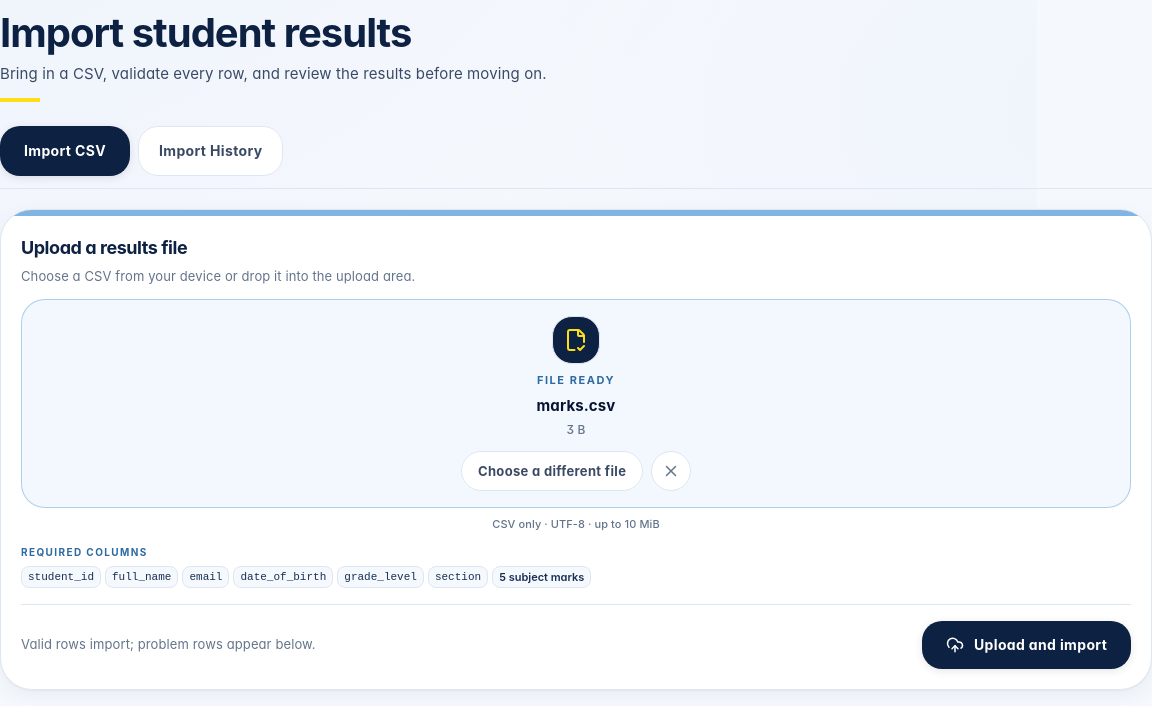
ImportPage › uploads a CSV and renders the real summary and row problems with physical lines
Earlier steps of the test are not shown.
Click the button "Upload and import". click: (1026, 645)
box: [922,621,1131,669]
(page scrolled)
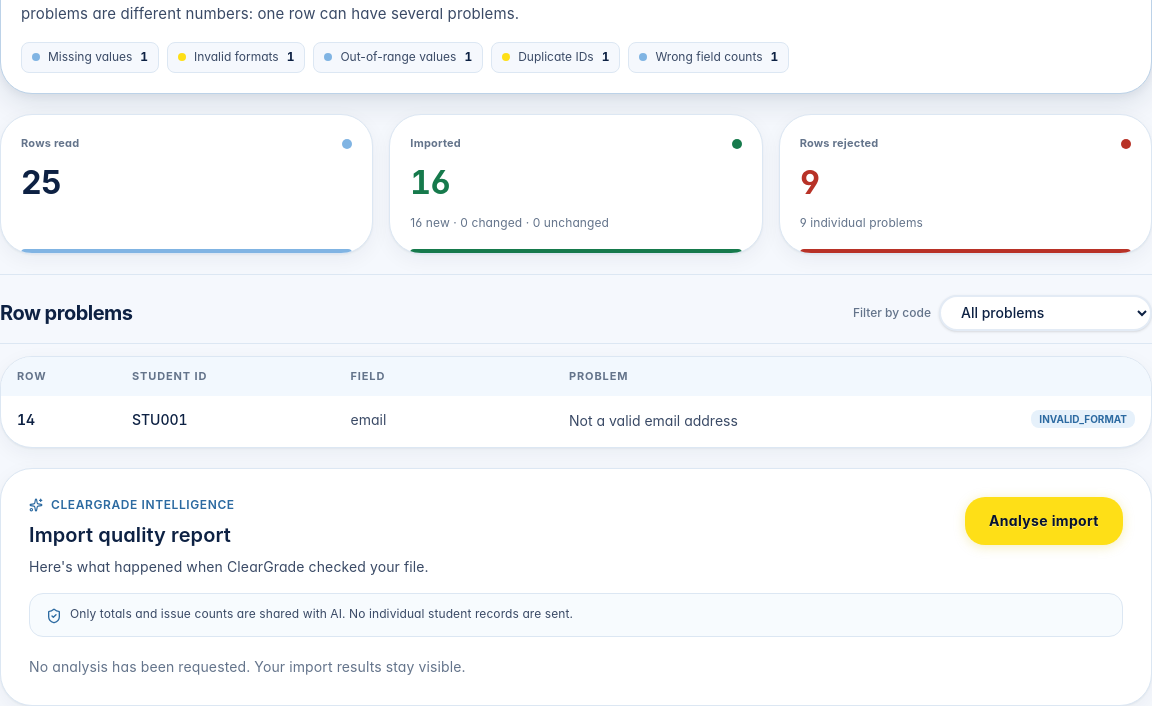
Result: the text "Not a valid email address" is shown at [569,412,738,429]
Result: the text "14" is shown at [1,396,116,447]
